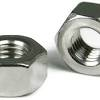Thread: (56, 21, 100, 69), (1, 33, 35, 67)
